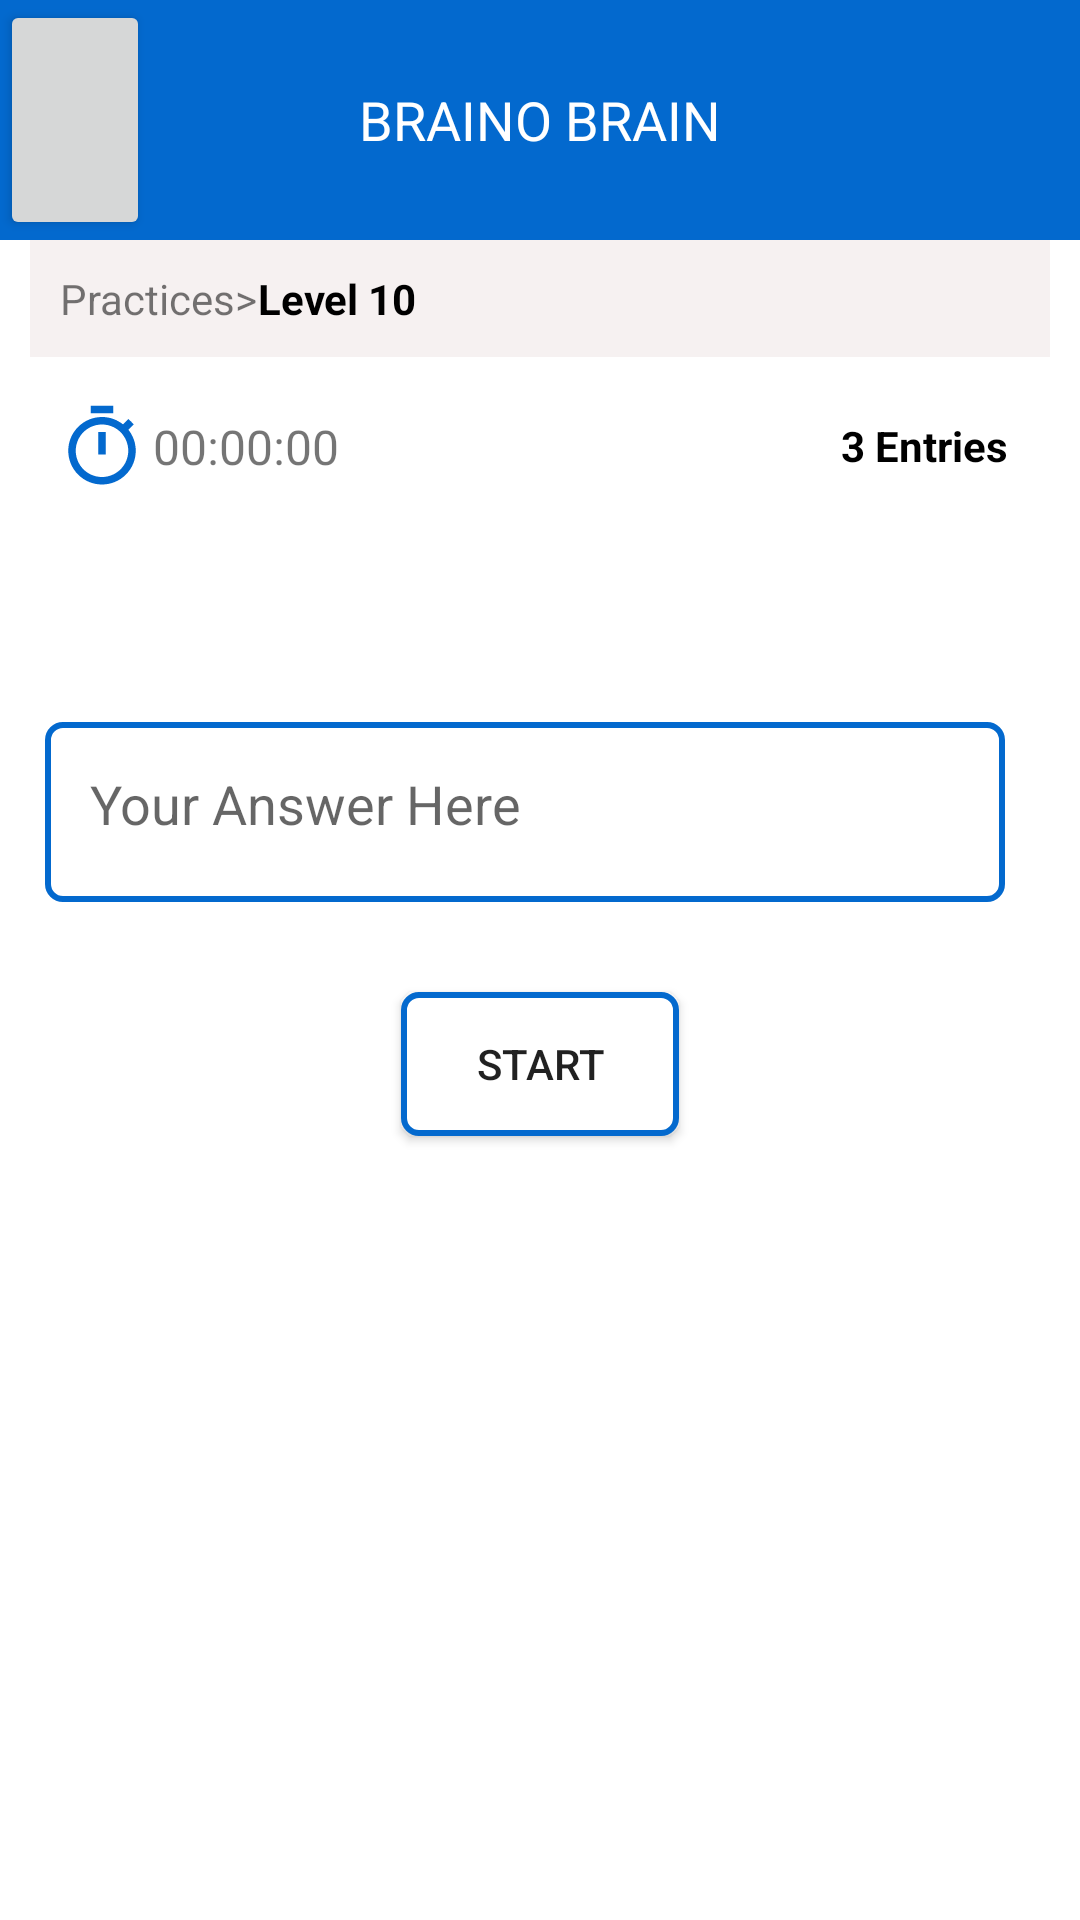

Where to tap for icons on this 1080px×1920px app screen, as (x,y):
timer: (102,445)
